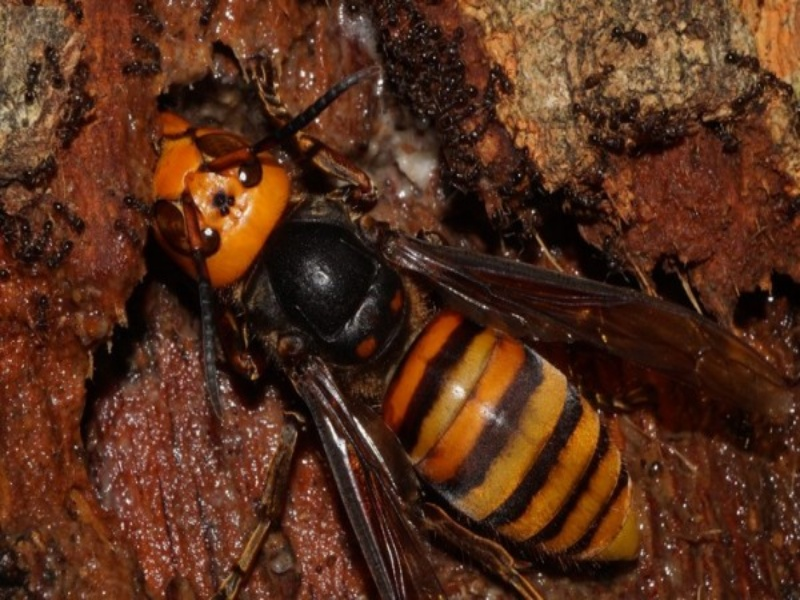asian_giant_hornet: (144, 105, 648, 573)
